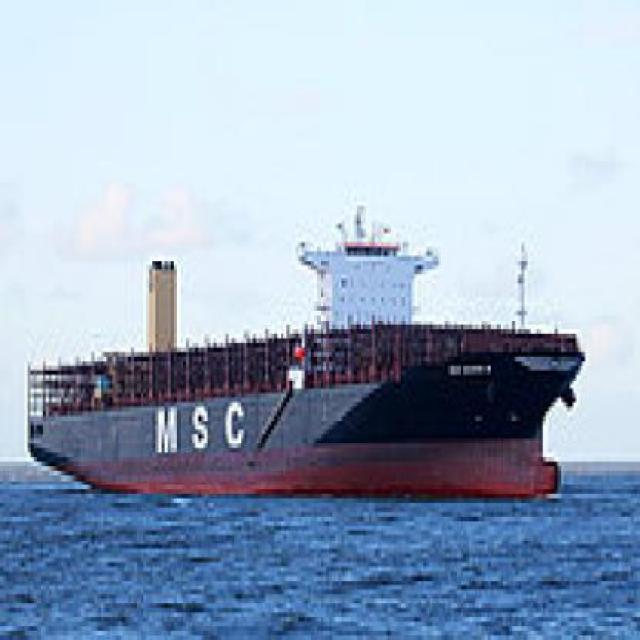container: (25, 280, 596, 509)
